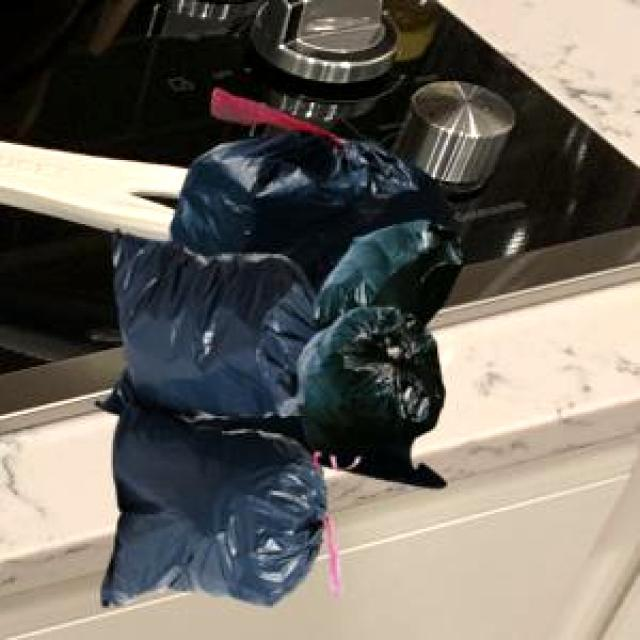Garbage_Bag: (92, 87, 452, 486), (99, 227, 340, 603), (294, 217, 460, 456)
